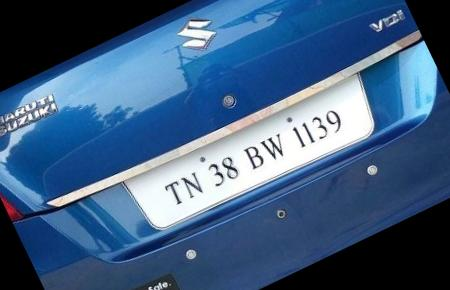plate: (110, 47, 403, 253)
